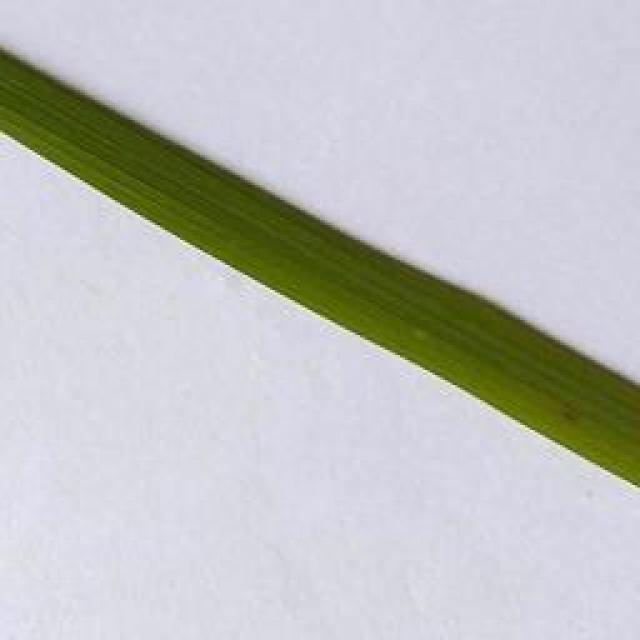Unhealthy: (558, 399, 582, 424)
